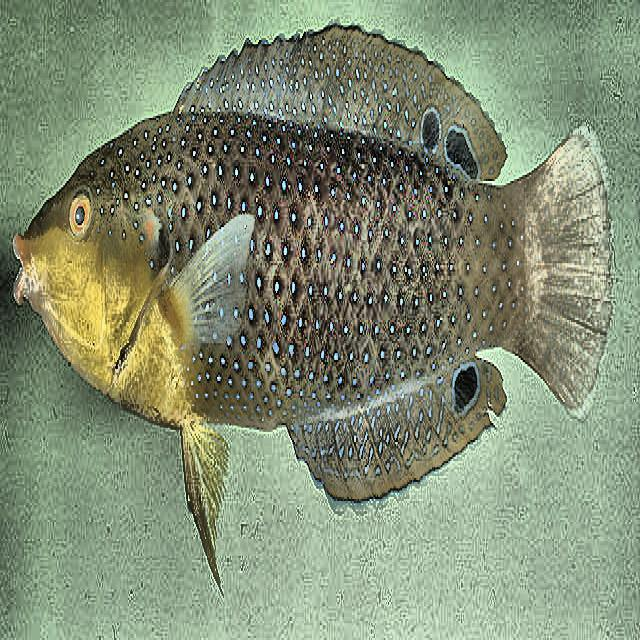fish: (11, 19, 616, 599)
